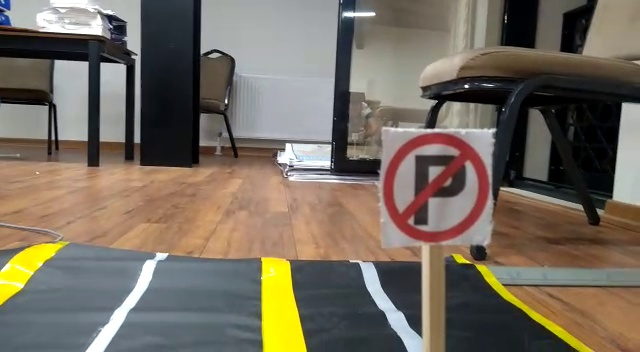park_yapilmaz: (381, 128, 493, 246)
